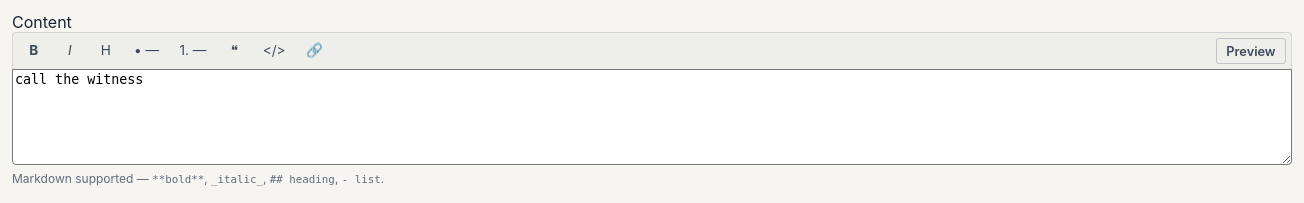
Test: MarkdownEditor › wraps the selected text when a toolbar button is clicked
This screenshot has width=1304, height=203.
Click the button named "Bold" at (34, 51), box [18, 38, 50, 64]
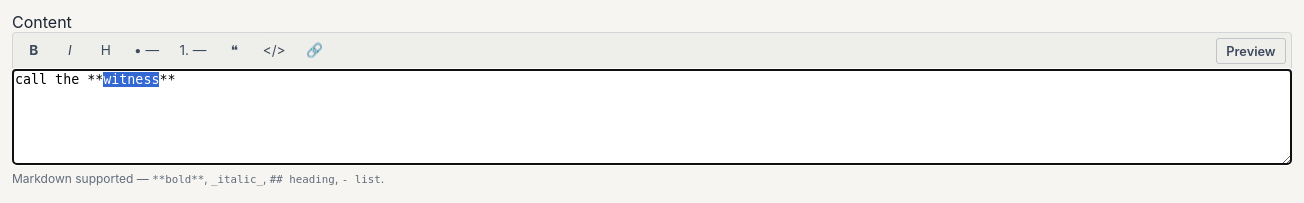
Now the text box labelled "Content" holds "call the **witness**", box [12, 69, 1292, 165]
